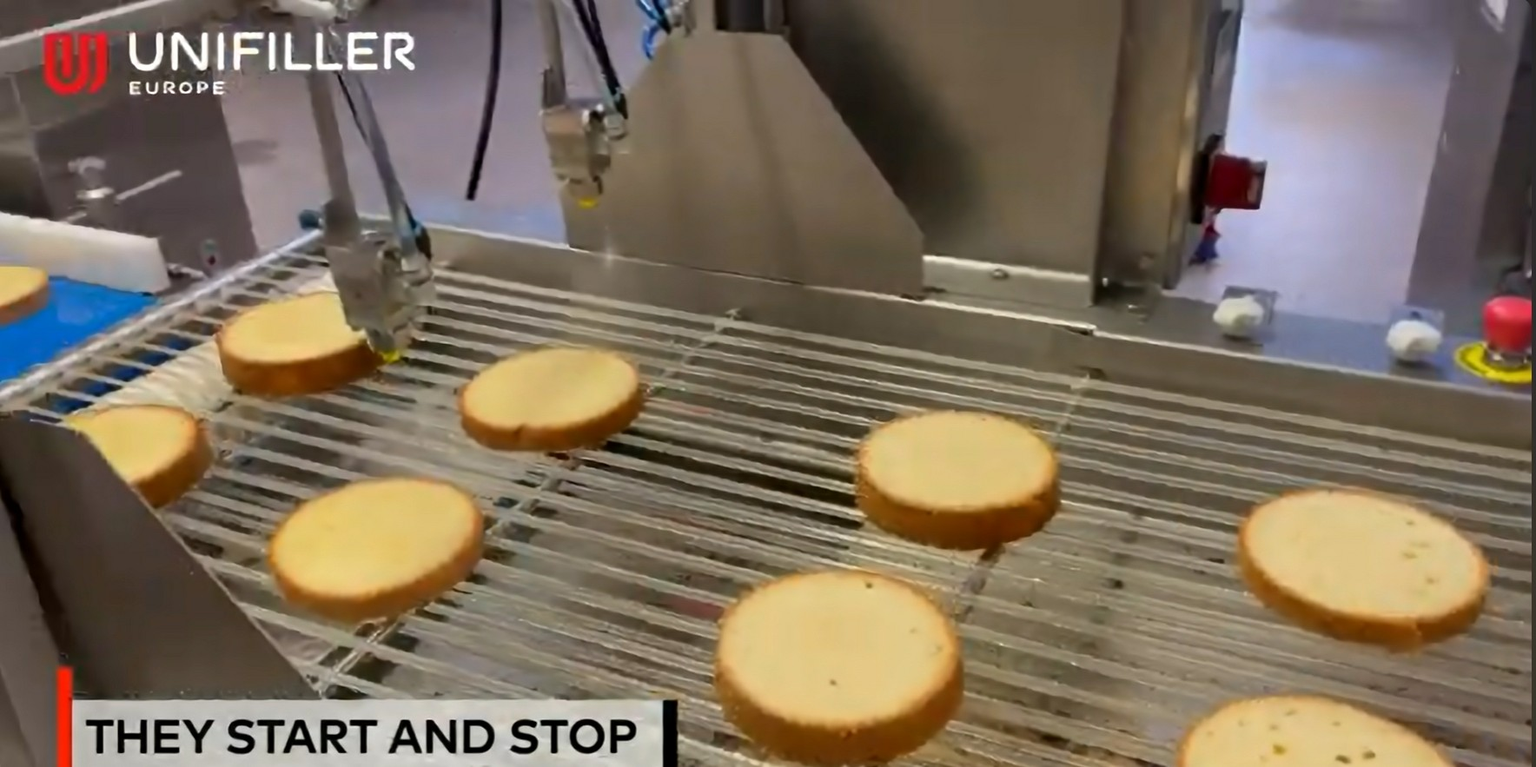Sponge Cake: (711, 570, 970, 763), (1239, 489, 1493, 648), (267, 476, 487, 621), (855, 409, 1060, 548), (1182, 692, 1458, 767), (455, 347, 648, 448), (214, 291, 383, 390), (63, 403, 208, 499), (0, 265, 50, 322)
